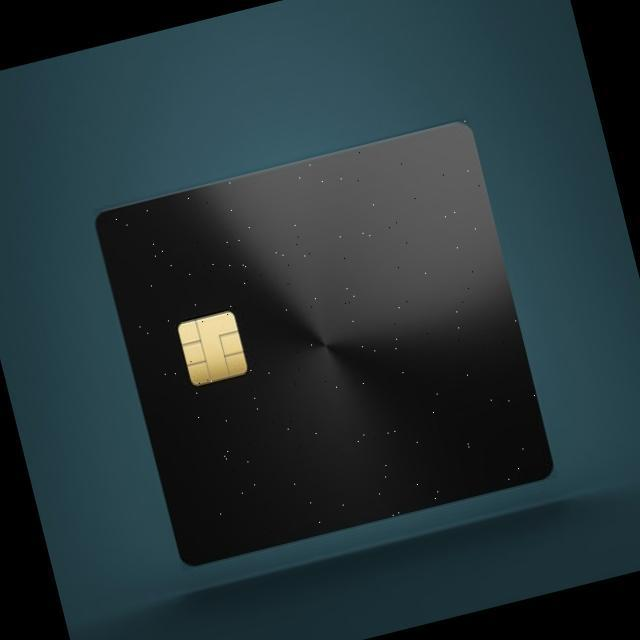payment_card: (94, 119, 554, 566)
